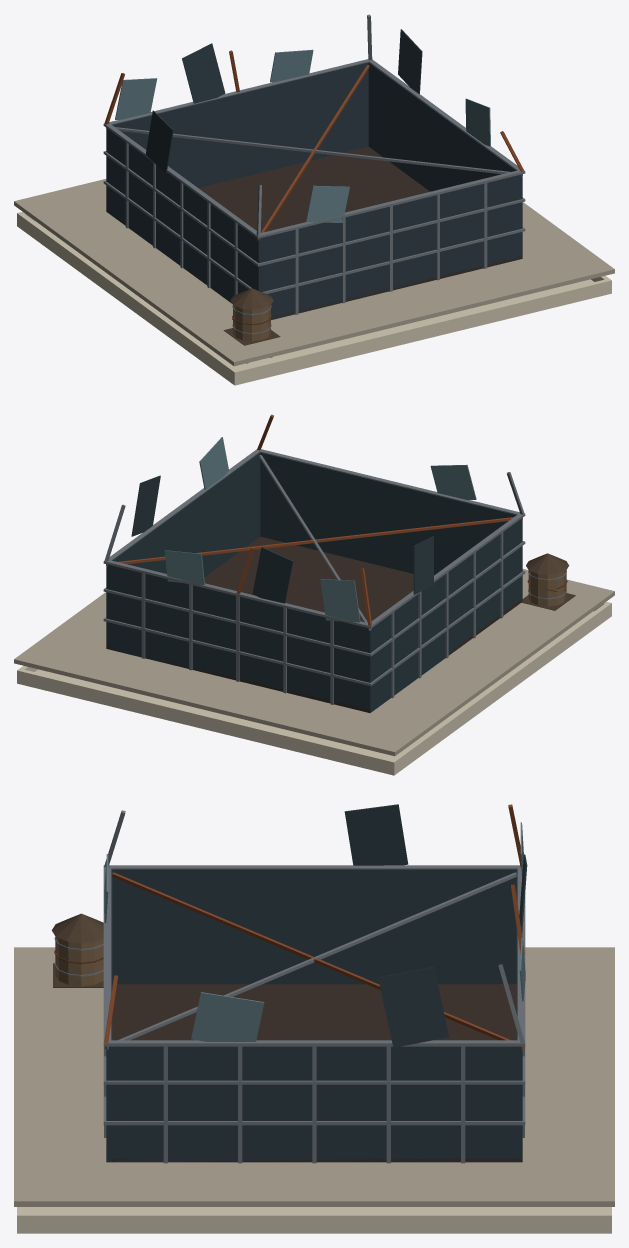
The model's file is tw_landmark_glass_top.glb.
The picture shows the model from 3 angles, top to bottom: view 1: azimuth 30°, elevation 25°; view 2: azimuth 150°, elevation 25°; view 3: azimuth 270°, elevation 25°; orthographic projection. The views are drawn at different scales.
Visible parts, largest first — view 1: tw_landmark_glass_top; view 2: tw_landmark_glass_top; view 3: tw_landmark_glass_top.
Part boxes in pixels (<box>): tw_landmark_glass_top: <box>14,14,614,385</box>; tw_landmark_glass_top: <box>14,414,614,775</box>; tw_landmark_glass_top: <box>14,804,614,1233</box>.
Size of the model in its own units: 24.24 by 10.15 by 24.24.
Materials: 3 (3 with a texture image).
